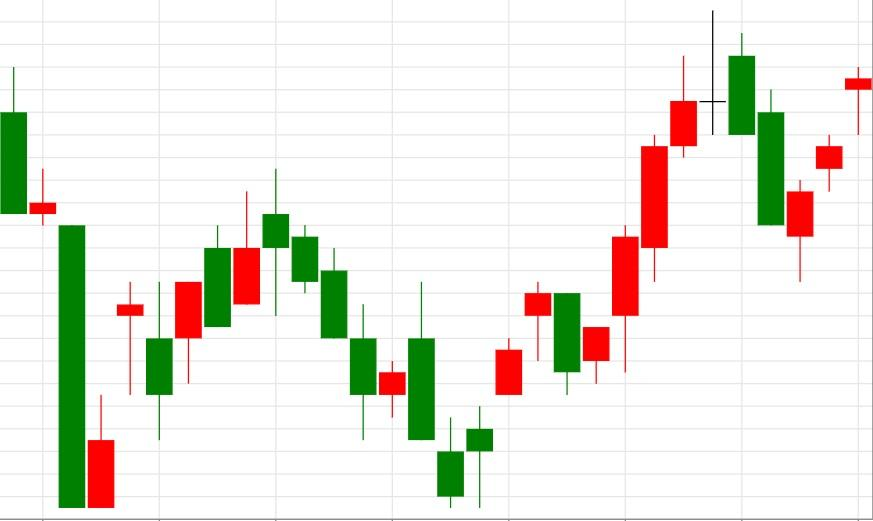hanging_man_fall: (437, 282, 552, 508)
three_white_soldiers_rise: (524, 134, 669, 396)
